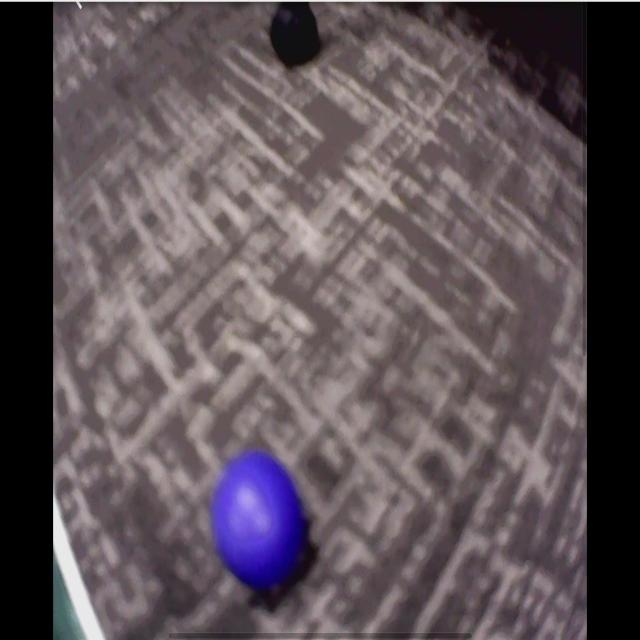ball: (212, 449, 306, 589)
